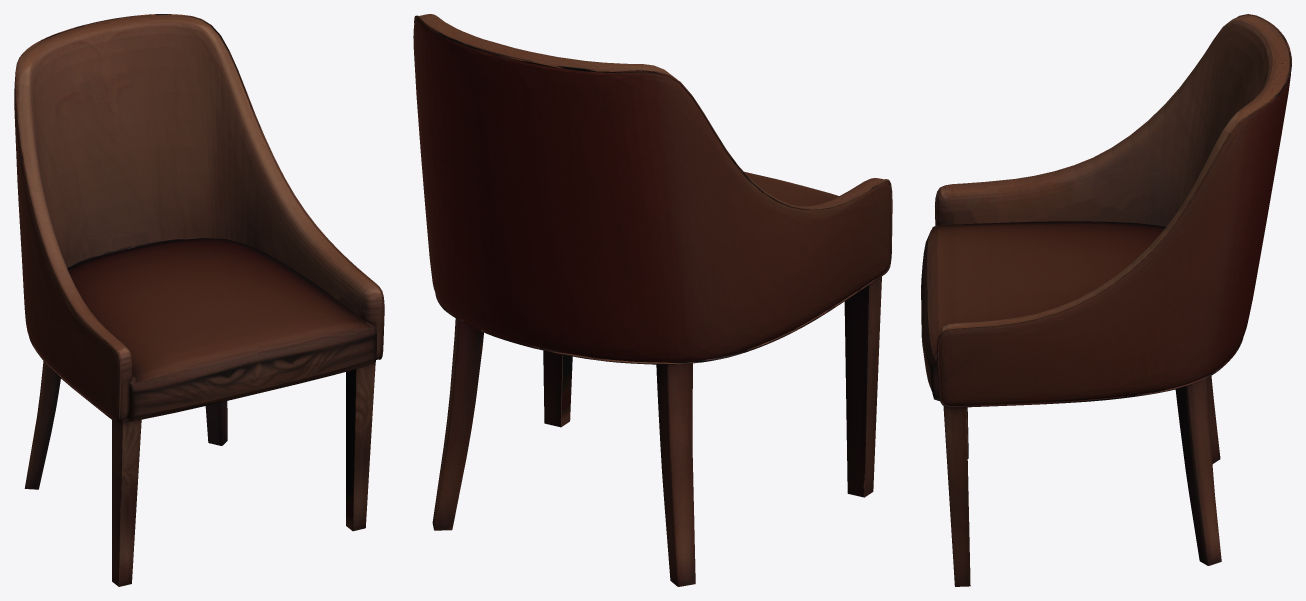
Rendered from edited_mesh.glb.
3 views of the same model, side by side, from view 1: azimuth 30°, elevation 25°; view 2: azimuth 150°, elevation 25°; view 3: azimuth 270°, elevation 25° (orthographic). The views are drawn at different scales.
Parts seen in each view (by area): view 1: solid_001_wire; view 2: solid_001_wire; view 3: solid_001_wire.
Boxes of the visible parts, x1,y1,x2,y2 form: solid_001_wire: (14, 14, 384, 586); solid_001_wire: (413, 14, 892, 586); solid_001_wire: (921, 14, 1291, 586).
Bounding box in the file's own units: 0.9742 × 1.47 × 1.07.
Materials: 1 (1 with a texture image).
